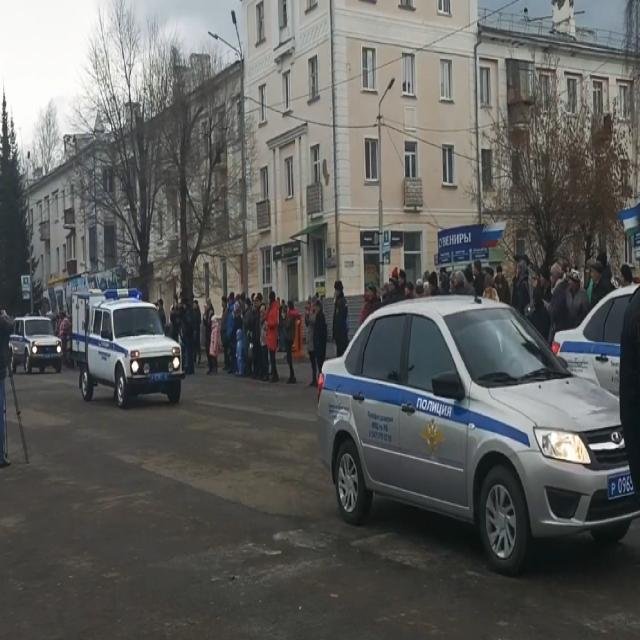police car: (318, 291, 637, 579), (71, 286, 184, 409), (8, 313, 64, 377)
